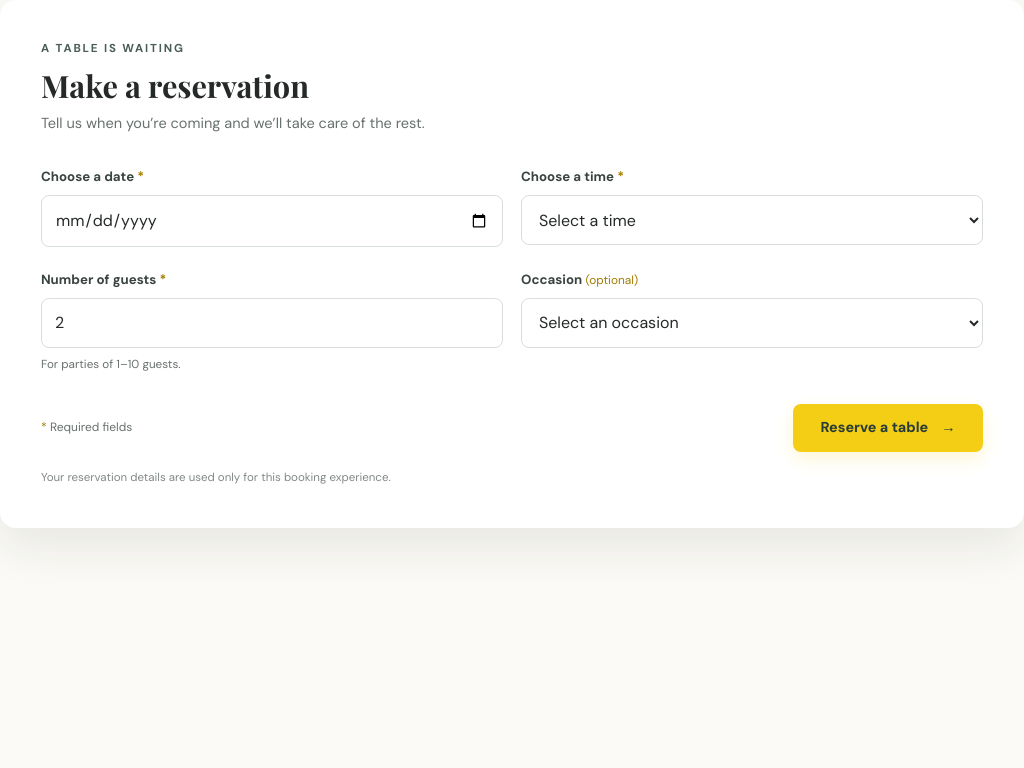
Test: BookingForm › shows validation messages when required values are missing
Click the button "Reserve a table →".
click(888, 428)  # box [793,404,983,452]
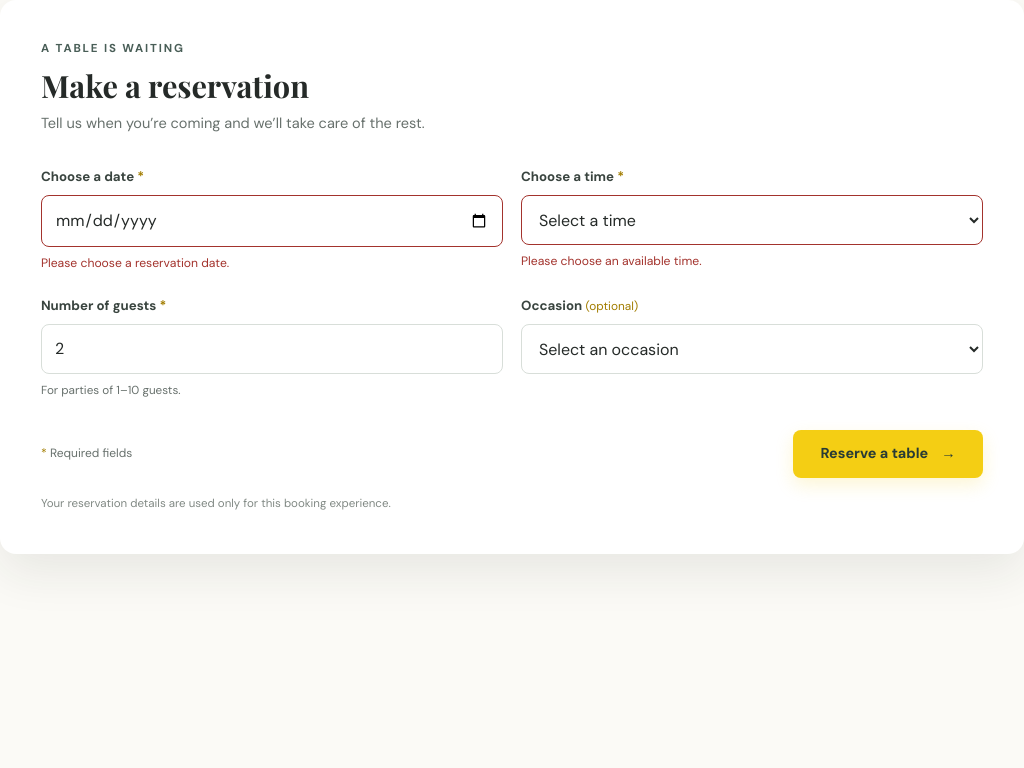
Now the text "Please choose a reservation date." is shown, box [41,255,229,271]
Now the text "Please choose an available time." is shown, box [521,253,702,269]
